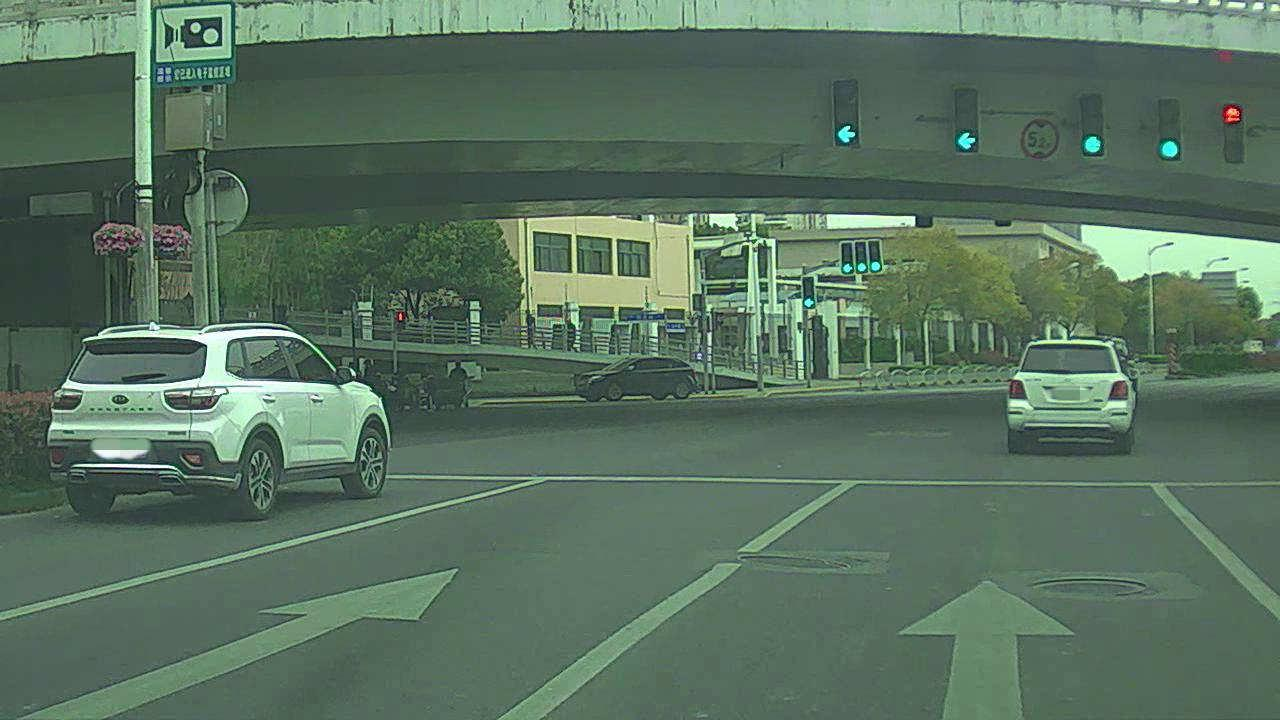traffic_light: (835, 80, 862, 150), (1077, 96, 1108, 156), (953, 87, 982, 150), (1157, 98, 1184, 160), (1224, 103, 1246, 160), (837, 241, 855, 278), (800, 275, 817, 310), (865, 239, 884, 270), (855, 238, 869, 271)
